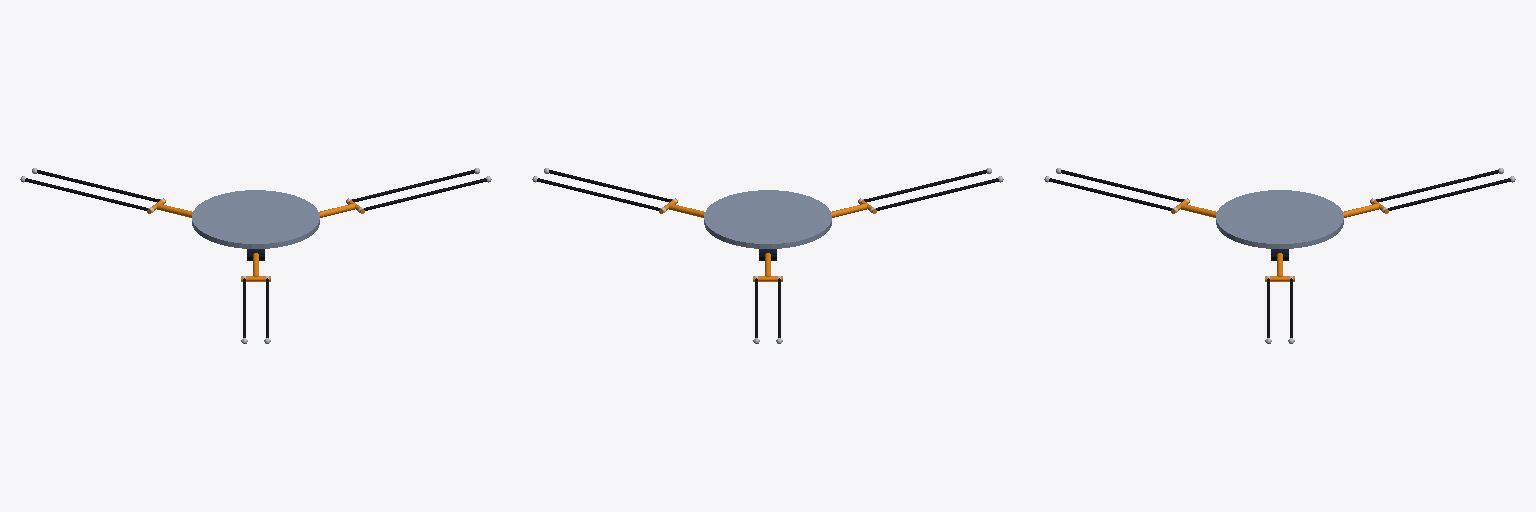
The robot description file, URDF, robot "delta_robot":
<?xml version="1.0"?>
<!-- generated by deltarobot.urdf — R=0.11 r=0.035 L=0.14 l=0.32 w=0.05 motor=stepper_nema17 tool=electromagnet -->
<robot name="delta_robot">
  <material name="frame"><color rgba="0.55 0.6 0.68 1"/></material>
  <material name="motor"><color rgba="0.15 0.17 0.2 1"/></material>
  <material name="arm"><color rgba="0.9 0.55 0.15 1"/></material>
  <material name="rod"><color rgba="0.12 0.12 0.14 1"/></material>
  <material name="joint"><color rgba="0.75 0.78 0.82 1"/></material>
  <material name="plate"><color rgba="0.25 0.55 0.9 1"/></material>
  <material name="tool"><color rgba="0.2 0.75 0.5 1"/></material>
  <link name="base_link">
    <visual>
      <origin xyz="0 0 0.026" rpy="0 0 0"/>
      <geometry><cylinder radius="0.1398" length="0.012"/></geometry>
      <material name="frame"/>
    </visual>
    <visual>
      <origin xyz="0.11 0 0" rpy="1.570796 0 0"/>
      <geometry><cylinder radius="0.0198" length="0.0385"/></geometry>
      <material name="motor"/>
    </visual>
    <visual>
      <origin xyz="-0.055 0.095263 0" rpy="1.570796 0 2.094395"/>
      <geometry><cylinder radius="0.0198" length="0.0385"/></geometry>
      <material name="motor"/>
    </visual>
    <visual>
      <origin xyz="-0.055 -0.095263 0" rpy="1.570796 0 4.18879"/>
      <geometry><cylinder radius="0.0198" length="0.0385"/></geometry>
      <material name="motor"/>
    </visual>
    <inertial>
      <origin xyz="0 0 0.02" rpy="0 0 0"/>
      <mass value="1.55"/>
      <inertia ixx="0.01" ixy="0" ixz="0" iyy="0.01" iyz="0" izz="0.02"/>
    </inertial>
  </link>
  <joint name="motor1_joint" type="revolute">
    <parent link="base_link"/>
    <child link="upper_arm1"/>
    <origin xyz="0.11 0 0" rpy="0 0 0"/>
    <axis xyz="0 1 0"/>
    <limit lower="-0.7" upper="1.5" effort="1.71" velocity="26.175"/>
  </joint>
  <link name="upper_arm1">
    <visual>
      <origin xyz="0.07 0 0" rpy="0 1.570796 0"/>
      <geometry><cylinder radius="0.007" length="0.14"/></geometry>
      <material name="arm"/>
    </visual>
    <visual>
      <origin xyz="0.14 0 0" rpy="1.570796 0 0"/>
      <geometry><cylinder radius="0.0056" length="0.064"/></geometry>
      <material name="arm"/>
    </visual>
    <inertial>
      <origin xyz="0.07 0 0" rpy="0 0 0"/>
      <mass value="0.04527"/>
      <inertia ixx="0.00001" ixy="0" ixz="0" iyy="0.000054" iyz="0" izz="0.000054"/>
    </inertial>
  </link>
  <joint name="elbow1a_pitch" type="revolute">
    <parent link="upper_arm1"/>
    <child link="elbow1a_link"/>
    <origin xyz="0.14 0.025 0" rpy="0 0 0"/>
    <axis xyz="0 1 0"/>
    <limit lower="-3.141593" upper="3.141593" effort="0" velocity="0"/>
  </joint>
  <link name="elbow1a_link"/>
  <joint name="elbow1a_yaw" type="revolute">
    <parent link="elbow1a_link"/>
    <child link="forearm1a"/>
    <origin xyz="0 0 0" rpy="0 0 0"/>
    <axis xyz="0 0 1"/>
    <limit lower="-1.570796" upper="1.570796" effort="0" velocity="0"/>
  </joint>
  <link name="forearm1a">
    <visual>
      <origin xyz="0.16 0 0" rpy="0 1.570796 0"/>
      <geometry><cylinder radius="0.00384" length="0.32"/></geometry>
      <material name="rod"/>
    </visual>
    <visual>
      <origin xyz="0 0 0" rpy="0 0 0"/>
      <geometry><sphere radius="0.006912"/></geometry>
      <material name="joint"/>
    </visual>
    <visual>
      <origin xyz="0.32 0 0" rpy="0 0 0"/>
      <geometry><sphere radius="0.006912"/></geometry>
      <material name="joint"/>
    </visual>
    <inertial>
      <origin xyz="0.16 0 0" rpy="0 0 0"/>
      <mass value="0.0224"/>
      <inertia ixx="0.000001" ixy="0" ixz="0" iyy="0.000191" iyz="0" izz="0.000191"/>
    </inertial>
  </link>
  <joint name="elbow1b_pitch" type="revolute">
    <parent link="upper_arm1"/>
    <child link="elbow1b_link"/>
    <origin xyz="0.14 -0.025 0" rpy="0 0 0"/>
    <axis xyz="0 1 0"/>
    <limit lower="-3.141593" upper="3.141593" effort="0" velocity="0"/>
    <mimic joint="elbow1a_pitch" multiplier="1" offset="0"/>
  </joint>
  <link name="elbow1b_link"/>
  <joint name="elbow1b_yaw" type="revolute">
    <parent link="elbow1b_link"/>
    <child link="forearm1b"/>
    <origin xyz="0 0 0" rpy="0 0 0"/>
    <axis xyz="0 0 1"/>
    <limit lower="-1.570796" upper="1.570796" effort="0" velocity="0"/>
    <mimic joint="elbow1a_yaw" multiplier="1" offset="0"/>
  </joint>
  <link name="forearm1b">
    <visual>
      <origin xyz="0.16 0 0" rpy="0 1.570796 0"/>
      <geometry><cylinder radius="0.00384" length="0.32"/></geometry>
      <material name="rod"/>
    </visual>
    <visual>
      <origin xyz="0 0 0" rpy="0 0 0"/>
      <geometry><sphere radius="0.006912"/></geometry>
      <material name="joint"/>
    </visual>
    <visual>
      <origin xyz="0.32 0 0" rpy="0 0 0"/>
      <geometry><sphere radius="0.006912"/></geometry>
      <material name="joint"/>
    </visual>
    <inertial>
      <origin xyz="0.16 0 0" rpy="0 0 0"/>
      <mass value="0.0224"/>
      <inertia ixx="0.000001" ixy="0" ixz="0" iyy="0.000191" iyz="0" izz="0.000191"/>
    </inertial>
  </link>
  <joint name="motor2_joint" type="revolute">
    <parent link="base_link"/>
    <child link="upper_arm2"/>
    <origin xyz="-0.055 0.095263 0" rpy="0 0 2.094395"/>
    <axis xyz="0 1 0"/>
    <limit lower="-0.7" upper="1.5" effort="1.71" velocity="26.175"/>
  </joint>
  <link name="upper_arm2">
    <visual>
      <origin xyz="0.07 0 0" rpy="0 1.570796 0"/>
      <geometry><cylinder radius="0.007" length="0.14"/></geometry>
      <material name="arm"/>
    </visual>
    <visual>
      <origin xyz="0.14 0 0" rpy="1.570796 0 0"/>
      <geometry><cylinder radius="0.0056" length="0.064"/></geometry>
      <material name="arm"/>
    </visual>
    <inertial>
      <origin xyz="0.07 0 0" rpy="0 0 0"/>
      <mass value="0.04527"/>
      <inertia ixx="0.00001" ixy="0" ixz="0" iyy="0.000054" iyz="0" izz="0.000054"/>
    </inertial>
  </link>
  <joint name="elbow2a_pitch" type="revolute">
    <parent link="upper_arm2"/>
    <child link="elbow2a_link"/>
    <origin xyz="0.14 0.025 0" rpy="0 0 0"/>
    <axis xyz="0 1 0"/>
    <limit lower="-3.141593" upper="3.141593" effort="0" velocity="0"/>
  </joint>
  <link name="elbow2a_link"/>
  <joint name="elbow2a_yaw" type="revolute">
    <parent link="elbow2a_link"/>
    <child link="forearm2a"/>
    <origin xyz="0 0 0" rpy="0 0 0"/>
    <axis xyz="0 0 1"/>
    <limit lower="-1.570796" upper="1.570796" effort="0" velocity="0"/>
  </joint>
  <link name="forearm2a">
    <visual>
      <origin xyz="0.16 0 0" rpy="0 1.570796 0"/>
      <geometry><cylinder radius="0.00384" length="0.32"/></geometry>
      <material name="rod"/>
    </visual>
    <visual>
      <origin xyz="0 0 0" rpy="0 0 0"/>
      <geometry><sphere radius="0.006912"/></geometry>
      <material name="joint"/>
    </visual>
    <visual>
      <origin xyz="0.32 0 0" rpy="0 0 0"/>
      <geometry><sphere radius="0.006912"/></geometry>
      <material name="joint"/>
    </visual>
    <inertial>
      <origin xyz="0.16 0 0" rpy="0 0 0"/>
      <mass value="0.0224"/>
      <inertia ixx="0.000001" ixy="0" ixz="0" iyy="0.000191" iyz="0" izz="0.000191"/>
    </inertial>
  </link>
  <joint name="elbow2b_pitch" type="revolute">
    <parent link="upper_arm2"/>
    <child link="elbow2b_link"/>
    <origin xyz="0.14 -0.025 0" rpy="0 0 0"/>
    <axis xyz="0 1 0"/>
    <limit lower="-3.141593" upper="3.141593" effort="0" velocity="0"/>
    <mimic joint="elbow2a_pitch" multiplier="1" offset="0"/>
  </joint>
  <link name="elbow2b_link"/>
  <joint name="elbow2b_yaw" type="revolute">
    <parent link="elbow2b_link"/>
    <child link="forearm2b"/>
    <origin xyz="0 0 0" rpy="0 0 0"/>
    <axis xyz="0 0 1"/>
    <limit lower="-1.570796" upper="1.570796" effort="0" velocity="0"/>
    <mimic joint="elbow2a_yaw" multiplier="1" offset="0"/>
  </joint>
  <link name="forearm2b">
    <visual>
      <origin xyz="0.16 0 0" rpy="0 1.570796 0"/>
      <geometry><cylinder radius="0.00384" length="0.32"/></geometry>
      <material name="rod"/>
    </visual>
    <visual>
      <origin xyz="0 0 0" rpy="0 0 0"/>
      <geometry><sphere radius="0.006912"/></geometry>
      <material name="joint"/>
    </visual>
    <visual>
      <origin xyz="0.32 0 0" rpy="0 0 0"/>
      <geometry><sphere radius="0.006912"/></geometry>
      <material name="joint"/>
    </visual>
    <inertial>
      <origin xyz="0.16 0 0" rpy="0 0 0"/>
      <mass value="0.0224"/>
      <inertia ixx="0.000001" ixy="0" ixz="0" iyy="0.000191" iyz="0" izz="0.000191"/>
    </inertial>
  </link>
  <joint name="motor3_joint" type="revolute">
    <parent link="base_link"/>
    <child link="upper_arm3"/>
    <origin xyz="-0.055 -0.095263 0" rpy="0 0 4.18879"/>
    <axis xyz="0 1 0"/>
    <limit lower="-0.7" upper="1.5" effort="1.71" velocity="26.175"/>
  </joint>
  <link name="upper_arm3">
    <visual>
      <origin xyz="0.07 0 0" rpy="0 1.570796 0"/>
      <geometry><cylinder radius="0.007" length="0.14"/></geometry>
      <material name="arm"/>
    </visual>
    <visual>
      <origin xyz="0.14 0 0" rpy="1.570796 0 0"/>
      <geometry><cylinder radius="0.0056" length="0.064"/></geometry>
      <material name="arm"/>
    </visual>
    <inertial>
      <origin xyz="0.07 0 0" rpy="0 0 0"/>
      <mass value="0.04527"/>
      <inertia ixx="0.00001" ixy="0" ixz="0" iyy="0.000054" iyz="0" izz="0.000054"/>
    </inertial>
  </link>
  <joint name="elbow3a_pitch" type="revolute">
    <parent link="upper_arm3"/>
    <child link="elbow3a_link"/>
    <origin xyz="0.14 0.025 0" rpy="0 0 0"/>
    <axis xyz="0 1 0"/>
    <limit lower="-3.141593" upper="3.141593" effort="0" velocity="0"/>
  </joint>
  <link name="elbow3a_link"/>
  <joint name="elbow3a_yaw" type="revolute">
    <parent link="elbow3a_link"/>
    <child link="forearm3a"/>
    <origin xyz="0 0 0" rpy="0 0 0"/>
    <axis xyz="0 0 1"/>
    <limit lower="-1.570796" upper="1.570796" effort="0" velocity="0"/>
  </joint>
  <link name="forearm3a">
    <visual>
      <origin xyz="0.16 0 0" rpy="0 1.570796 0"/>
      <geometry><cylinder radius="0.00384" length="0.32"/></geometry>
      <material name="rod"/>
    </visual>
    <visual>
      <origin xyz="0 0 0" rpy="0 0 0"/>
      <geometry><sphere radius="0.006912"/></geometry>
      <material name="joint"/>
    </visual>
    <visual>
      <origin xyz="0.32 0 0" rpy="0 0 0"/>
      <geometry><sphere radius="0.006912"/></geometry>
      <material name="joint"/>
    </visual>
    <inertial>
      <origin xyz="0.16 0 0" rpy="0 0 0"/>
      <mass value="0.0224"/>
      <inertia ixx="0.000001" ixy="0" ixz="0" iyy="0.000191" iyz="0" izz="0.000191"/>
    </inertial>
  </link>
  <joint name="elbow3b_pitch" type="revolute">
    <parent link="upper_arm3"/>
    <child link="elbow3b_link"/>
    <origin xyz="0.14 -0.025 0" rpy="0 0 0"/>
    <axis xyz="0 1 0"/>
    <limit lower="-3.141593" upper="3.141593" effort="0" velocity="0"/>
    <mimic joint="elbow3a_pitch" multiplier="1" offset="0"/>
  </joint>
  <link name="elbow3b_link"/>
  <joint name="elbow3b_yaw" type="revolute">
    <parent link="elbow3b_link"/>
    <child link="forearm3b"/>
    <origin xyz="0 0 0" rpy="0 0 0"/>
    <axis xyz="0 0 1"/>
    <limit lower="-1.570796" upper="1.570796" effort="0" velocity="0"/>
    <mimic joint="elbow3a_yaw" multiplier="1" offset="0"/>
  </joint>
  <link name="forearm3b">
    <visual>
      <origin xyz="0.16 0 0" rpy="0 1.570796 0"/>
      <geometry><cylinder radius="0.00384" length="0.32"/></geometry>
      <material name="rod"/>
    </visual>
    <visual>
      <origin xyz="0 0 0" rpy="0 0 0"/>
      <geometry><sphere radius="0.006912"/></geometry>
      <material name="joint"/>
    </visual>
    <visual>
      <origin xyz="0.32 0 0" rpy="0 0 0"/>
      <geometry><sphere radius="0.006912"/></geometry>
      <material name="joint"/>
    </visual>
    <inertial>
      <origin xyz="0.16 0 0" rpy="0 0 0"/>
      <mass value="0.0224"/>
      <inertia ixx="0.000001" ixy="0" ixz="0" iyy="0.000191" iyz="0" izz="0.000191"/>
    </inertial>
  </link>
  <joint name="effector_x" type="prismatic">
    <parent link="base_link"/>
    <child link="effector_x_link"/>
    <origin xyz="0 0 0" rpy="0 0 0"/>
    <axis xyz="1 0 0"/>
    <limit lower="-0.535" upper="0.535" effort="0" velocity="0"/>
  </joint>
  <link name="effector_x_link"/>
  <joint name="effector_y" type="prismatic">
    <parent link="effector_x_link"/>
    <child link="effector_y_link"/>
    <origin xyz="0 0 0" rpy="0 0 0"/>
    <axis xyz="0 1 0"/>
    <limit lower="-0.535" upper="0.535" effort="0" velocity="0"/>
  </joint>
  <link name="effector_y_link"/>
  <joint name="effector_z" type="prismatic">
    <parent link="effector_y_link"/>
    <child link="effector"/>
    <origin xyz="0 0 0" rpy="0 0 0"/>
    <axis xyz="0 0 1"/>
    <limit lower="-0.46" upper="0" effort="0" velocity="0"/>
  </joint>
  <link name="effector">
    <visual>
      <origin xyz="0 0 0" rpy="0 0 0"/>
      <geometry><cylinder radius="0.047" length="0.01"/></geometry>
      <material name="plate"/>
    </visual>
    <inertial>
      <origin xyz="0 0 0" rpy="0 0 0"/>
      <mass value="0.06"/>
      <inertia ixx="0.0001" ixy="0" ixz="0" iyy="0.0001" iyz="0" izz="0.0002"/>
    </inertial>
  </link>
  <joint name="tool_joint" type="fixed">
    <parent link="effector"/>
    <child link="tool_link"/>
    <origin xyz="0 0 -0.005" rpy="0 0 0"/>
  </joint>
  <link name="tool_link">
    <visual>
      <origin xyz="0 0 -0.02" rpy="0 0 0"/>
      <geometry><cylinder radius="0.0125" length="0.04"/></geometry>
      <material name="tool"/>
    </visual>
    <inertial>
      <origin xyz="0 0 -0.02" rpy="0 0 0"/>
      <mass value="0.1"/>
      <inertia ixx="0.00001" ixy="0" ixz="0" iyy="0.00001" iyz="0" izz="0.00001"/>
    </inertial>
  </link>
  <joint name="tcp_joint" type="fixed">
    <parent link="tool_link"/>
    <child link="tcp"/>
    <origin xyz="0 0 -0.035" rpy="0 0 0"/>
  </joint>
  <link name="tcp"/>
</robot>

--- Facts derived from the render (not from the file) ---
3 views of the same robot in one strip: view 1: azimuth 30°, elevation 25°; view 2: azimuth 150°, elevation 25°; view 3: azimuth 270°, elevation 25° (orthographic).
Model delta_robot with 21 links and 20 joints (15 revolute, 3 prismatic, 2 fixed), rooted at base_link, posed all joints at 0.
Visible links, largest first — view 1: base_link; view 2: base_link; view 3: base_link.
Link boxes in pixels (x1,y1,x2,y2): base_link: [192, 190, 319, 260]; base_link: [704, 190, 831, 260]; base_link: [1216, 190, 1343, 260].
Bounding box of the posed robot: 0.8905 × 1.03 × 0.077 m (x, y, z).
Geometry: primitives only (box / cylinder / sphere), no mesh files.
